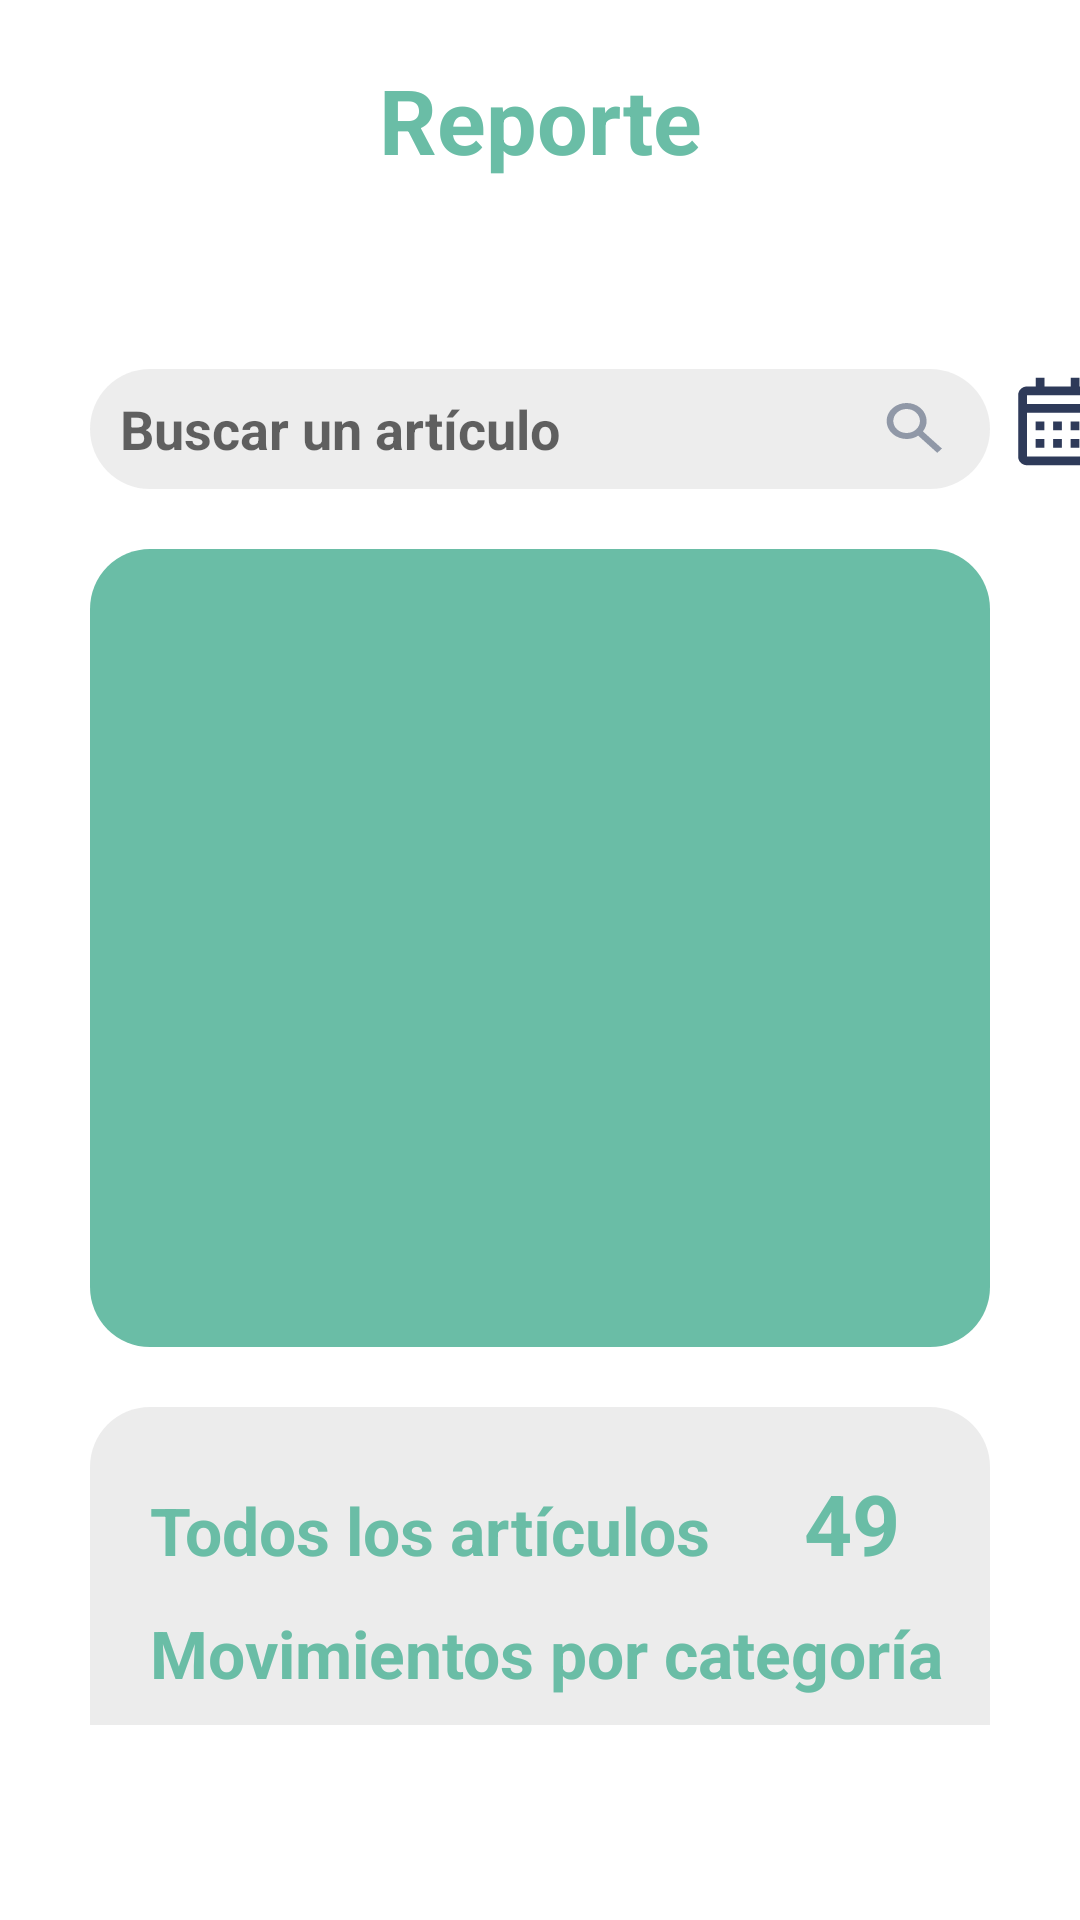

Screen size 1080px×1920px. Icon name, then its box in pixels as (left=x1, top=y1, right=x2, bottom=y2):
search: (left=887, top=403, right=942, bottom=453)
